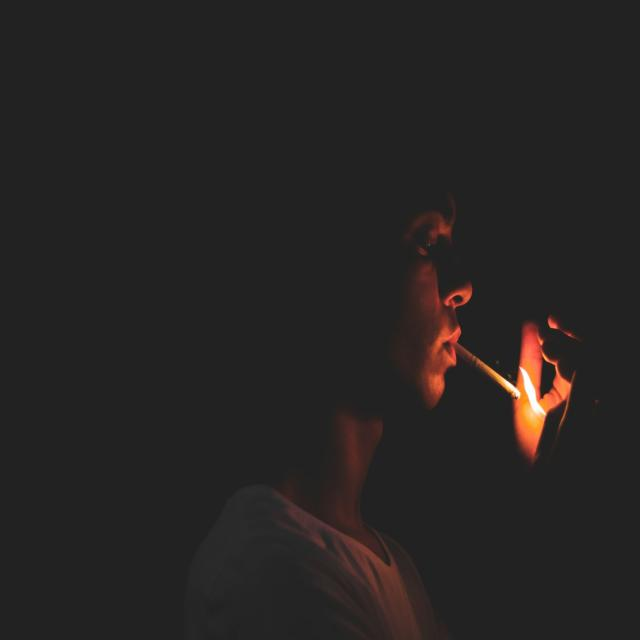fire: (519, 366, 547, 421)
